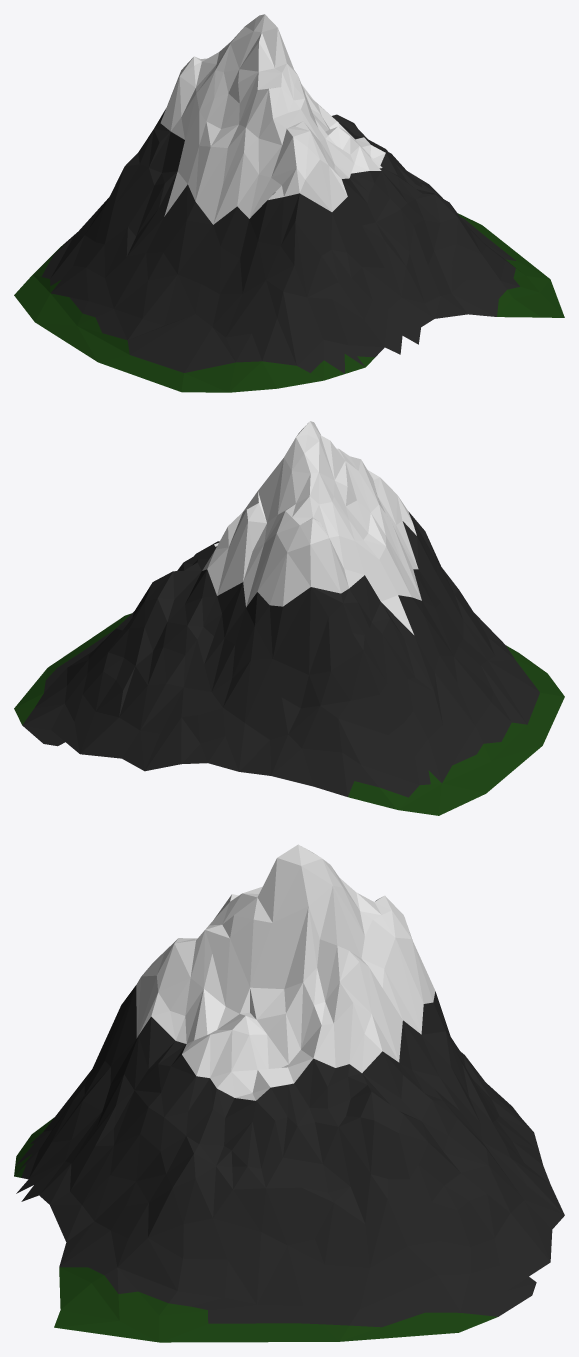
The model's file is mountain1.obj.
3 renders of one model, top to bottom at view 1: azimuth 30°, elevation 25°; view 2: azimuth 150°, elevation 25°; view 3: azimuth 270°, elevation 25°, orthographic. The views are drawn at different scales.
Visible parts, largest first — view 1: Landscape; view 2: Landscape; view 3: Landscape.
Part boxes in pixels (left/top/right/bottom): Landscape: left=14, top=14, right=564, bottom=392; Landscape: left=14, top=421, right=564, bottom=815; Landscape: left=14, top=844, right=564, bottom=1342.
Size of the model in its own units: 0.9303 by 0.582 by 0.8126.
